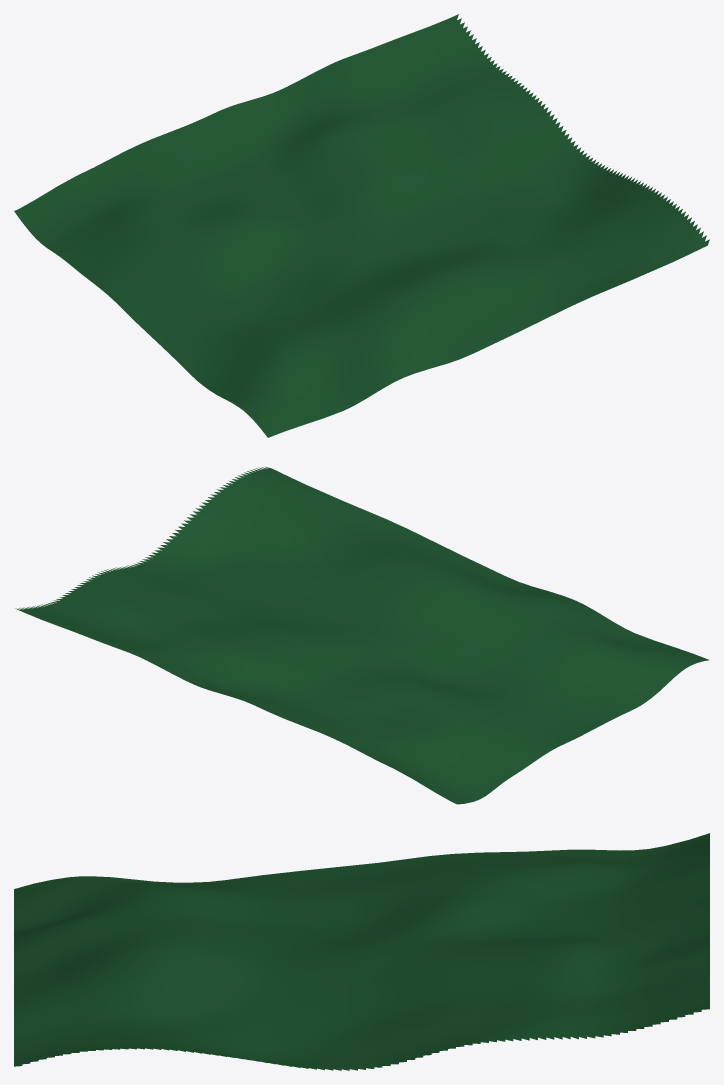
Rendered from payo_land_x2_y0_lod2.glb.
3 views of the same model, one above another, from view 1: azimuth 30°, elevation 25°; view 2: azimuth 150°, elevation 25°; view 3: azimuth 270°, elevation 25° (orthographic). The views are drawn at different scales.
Visible parts, largest first — view 1: payo_land_x2_y0; view 2: payo_land_x2_y0; view 3: payo_land_x2_y0.
Boxes of the visible parts, x1=… form: payo_land_x2_y0: x1=14, y1=14, x2=709, y2=437; payo_land_x2_y0: x1=15, y1=467, x2=709, y2=804; payo_land_x2_y0: x1=14, y1=833, x2=709, y2=1070.
Bounding box in the file's own units: 258 × 71.74 × 255.
